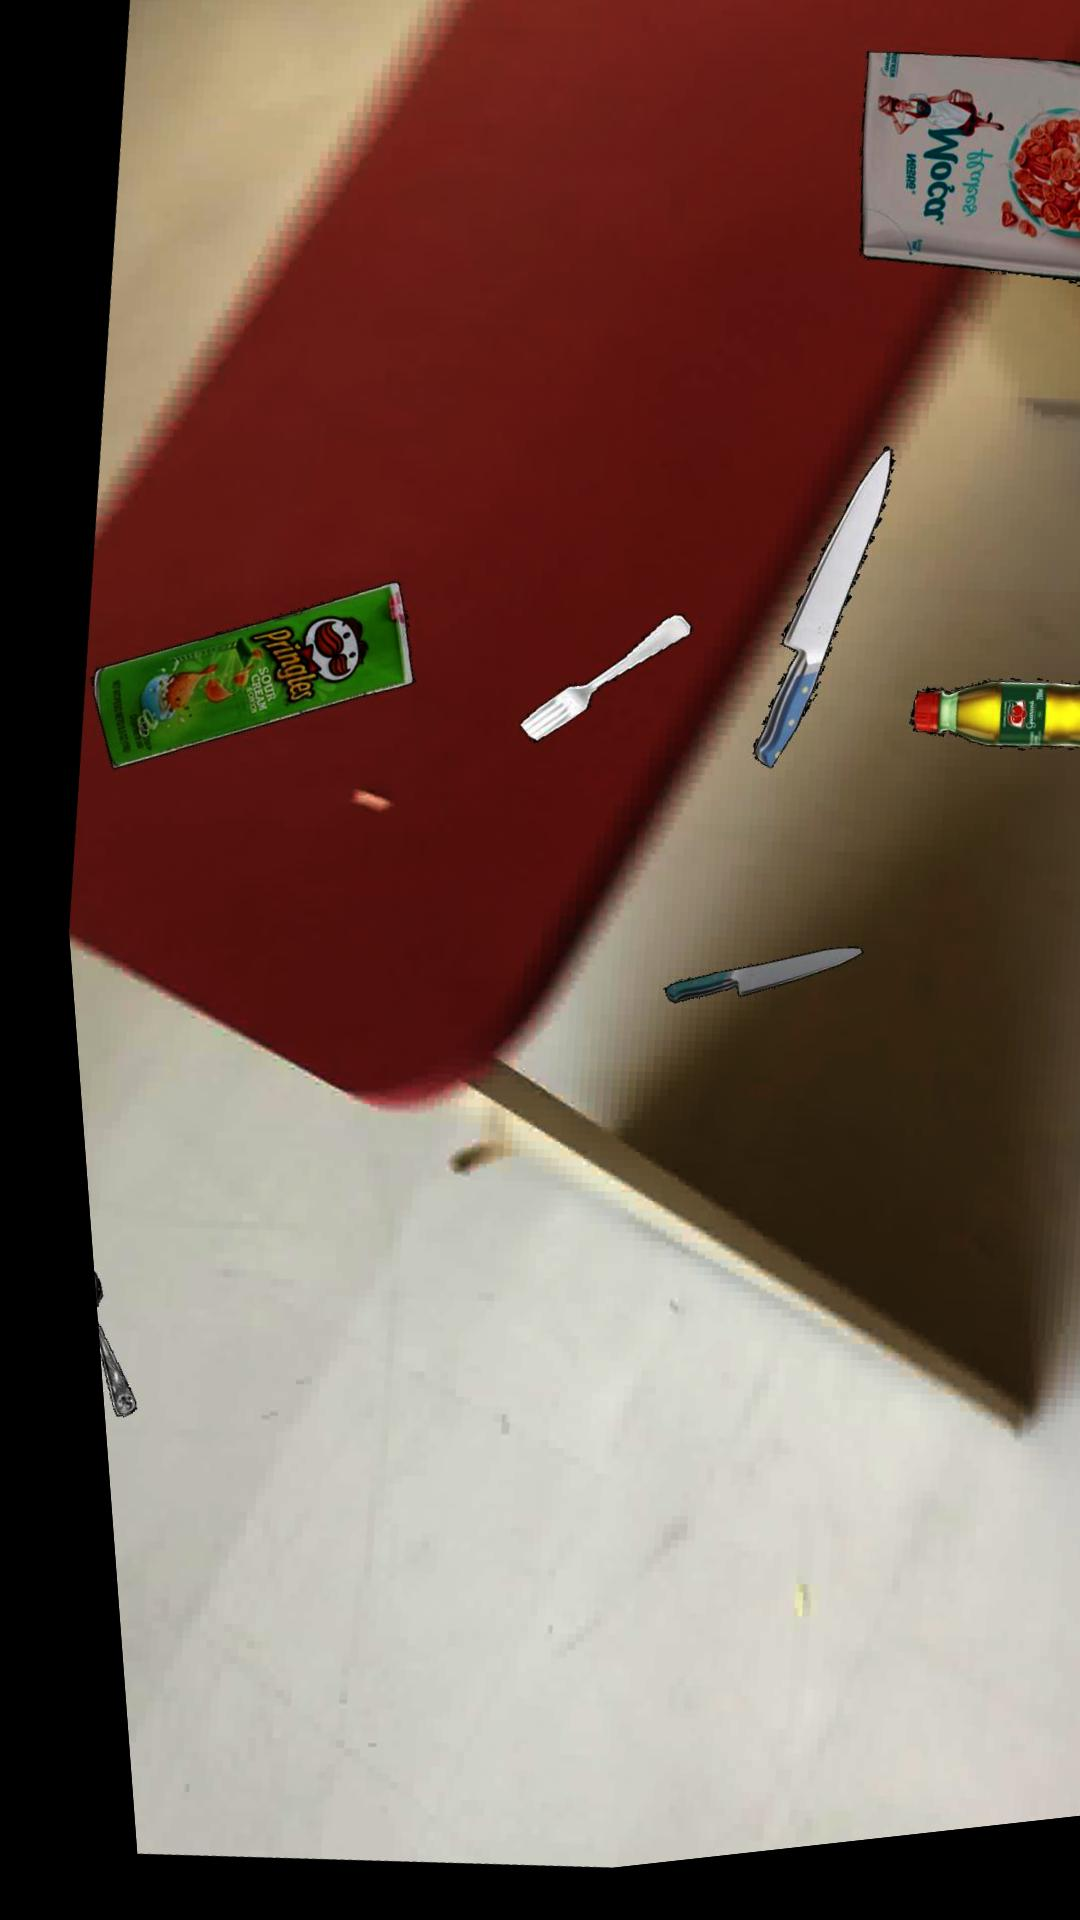corn flakes: (856, 69, 1080, 307)
fork: (508, 626, 682, 750)
guarana: (899, 699, 1080, 770)
knife: (741, 463, 887, 782), (649, 963, 848, 1014)
pringles: (82, 587, 405, 767)
spoon: (76, 1317, 115, 1415)
